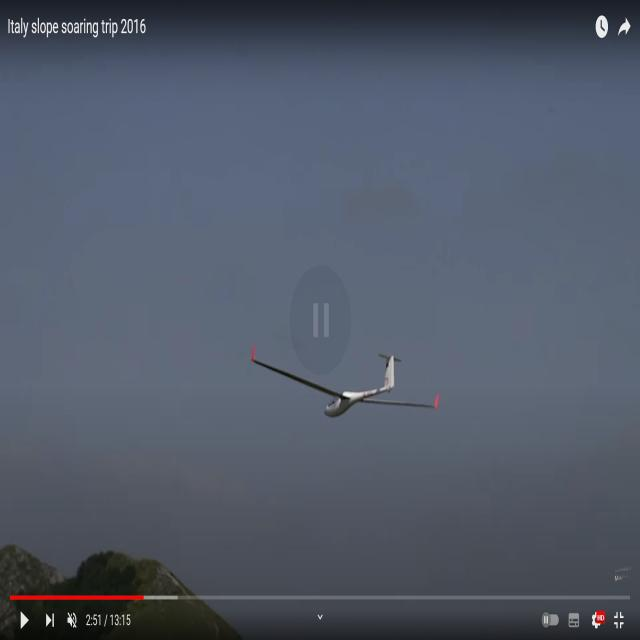iha: (250, 376, 440, 393)
